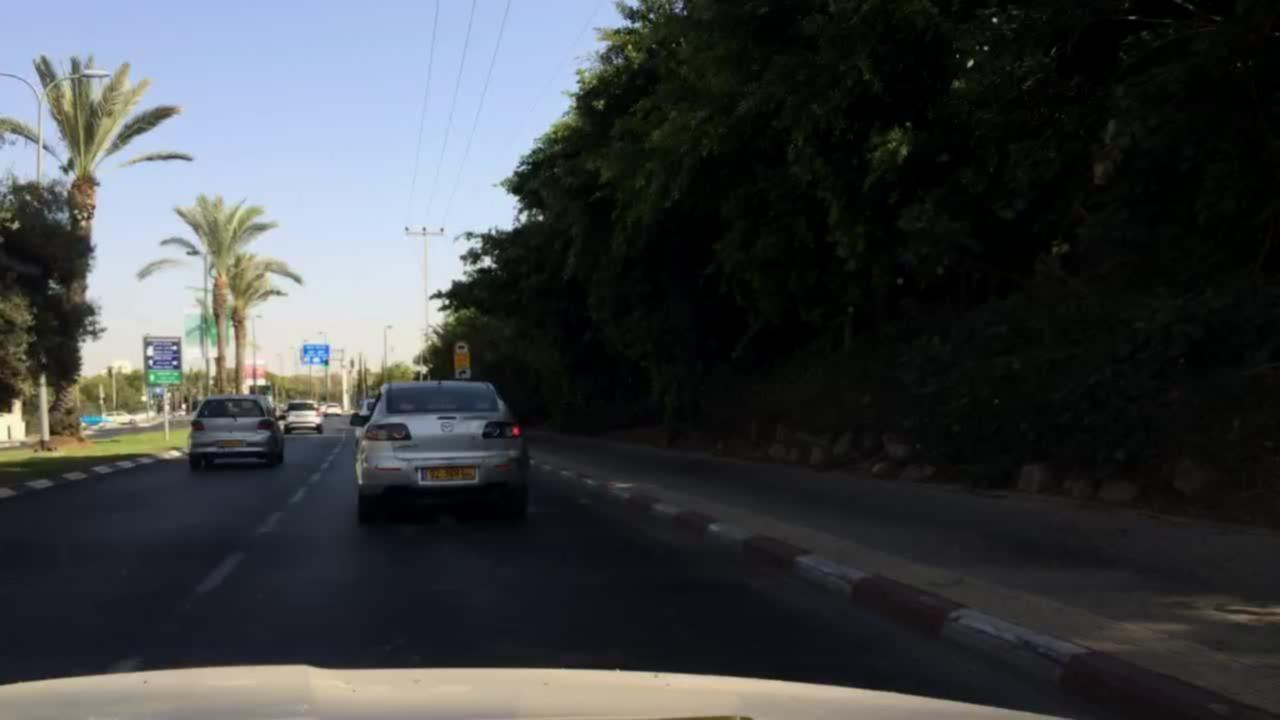Mazda: (438, 418, 455, 437)
